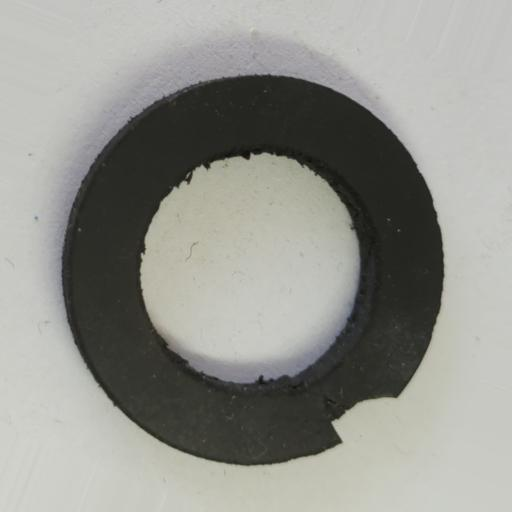defect: (320, 394, 399, 446)
